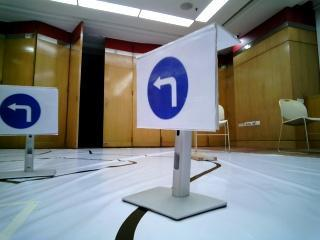left: (137, 47, 215, 131), (0, 85, 58, 134)
